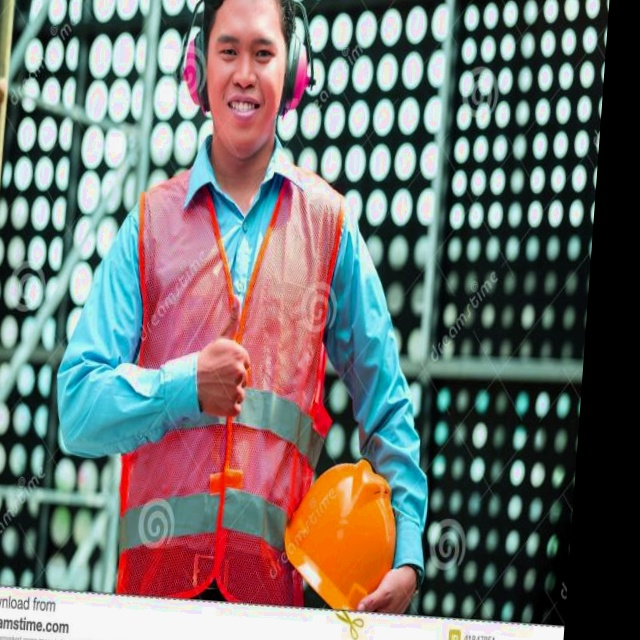Con_Chaleco: (110, 144, 337, 606)
Sin_Casco_Mascarrilla: (192, 0, 299, 157)
